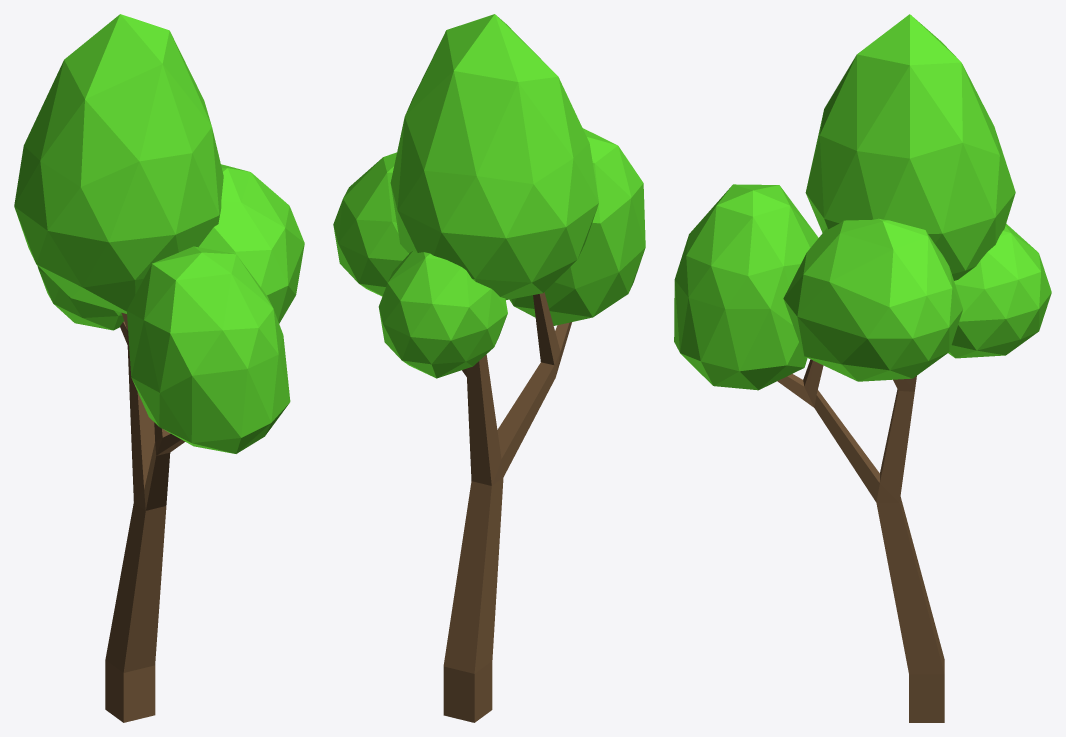
File: T_tree1.fbx
The picture shows the model from 3 angles, left to right: view 1: azimuth 30°, elevation 25°; view 2: azimuth 150°, elevation 25°; view 3: azimuth 270°, elevation 25°; orthographic projection. The views are drawn at different scales.
Visible parts, largest first — view 1: Icosphere; view 2: Icosphere; view 3: Icosphere.
Part boxes in pixels (x1,y1,x2,y2): Icosphere: (14,14,304,722); Icosphere: (333,14,645,722); Icosphere: (674,14,1051,722).
Size of the model in its own units: 390 by 1046 by 517.
